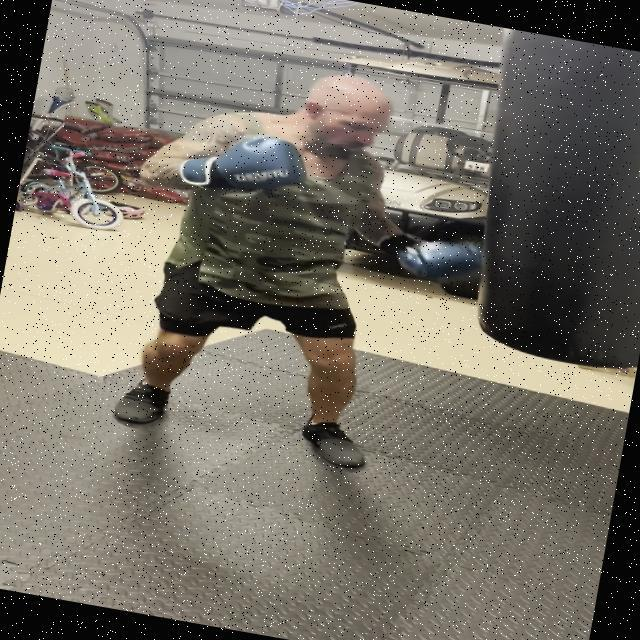punch: (126, 40, 518, 322)
